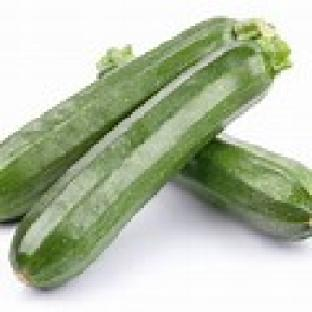Zucchini: (11, 37, 288, 288), (0, 19, 236, 221), (182, 136, 311, 239)
